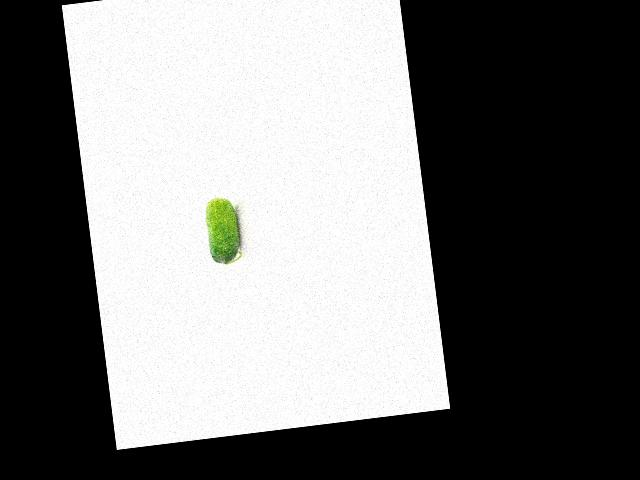cucumber: (203, 194, 243, 265)
